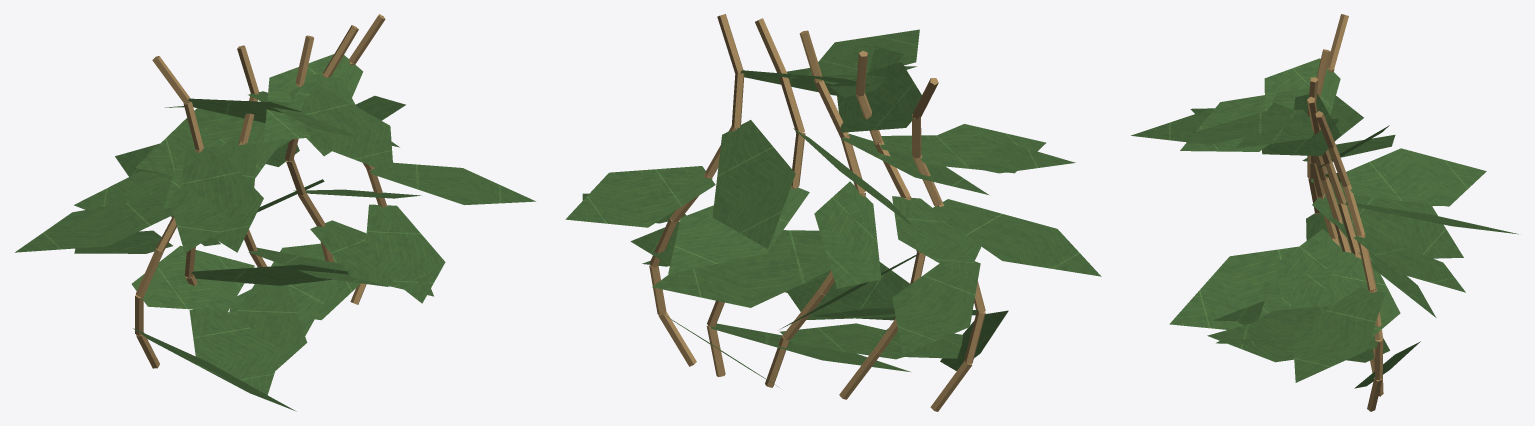
Rendered from en-010_vine_cluster_set__short.obj.
3 views of the same model, side by side, from view 1: azimuth 30°, elevation 25°; view 2: azimuth 150°, elevation 25°; view 3: azimuth 270°, elevation 25° (orthographic). The views are drawn at different scales.
Visible parts, largest first — view 1: en-010_vine_cluster_set__short; view 2: en-010_vine_cluster_set__short; view 3: en-010_vine_cluster_set__short.
Part boxes in pixels (x1,y1,x2,y2): en-010_vine_cluster_set__short: (15, 14, 535, 411); en-010_vine_cluster_set__short: (565, 14, 1101, 411); en-010_vine_cluster_set__short: (1131, 14, 1518, 411).
Size of the model in its own units: 0.8943 by 0.5278 by 0.6267.
Materials: 2 (2 with a texture image).
